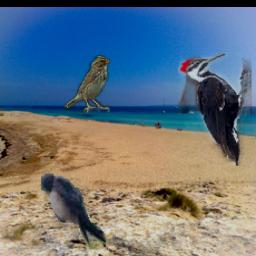Sparrow: (63, 56, 110, 114)
Swallow: (41, 175, 106, 250)
Woodpecker: (178, 52, 252, 166)
